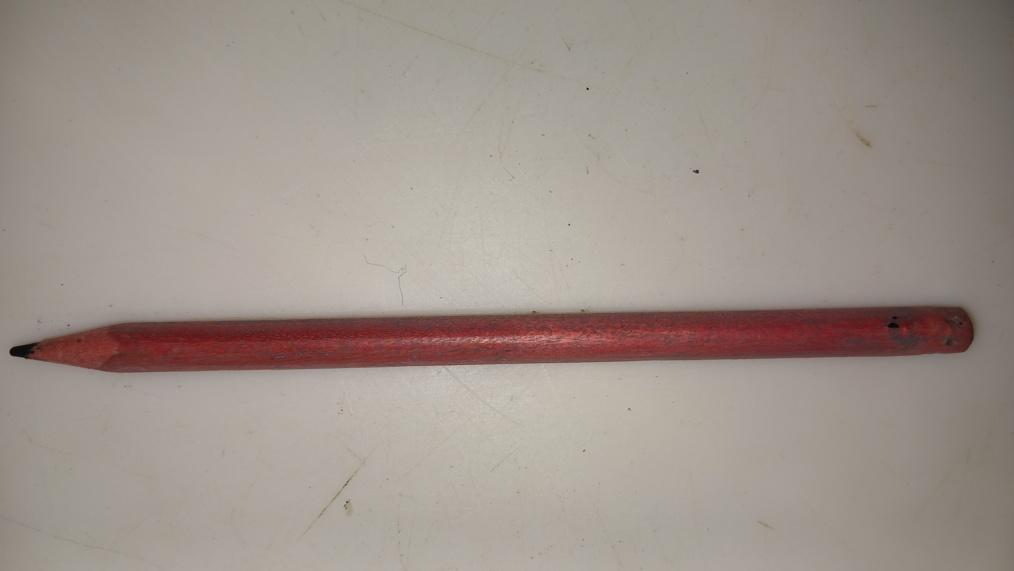Pencil: (8, 302, 978, 375)
